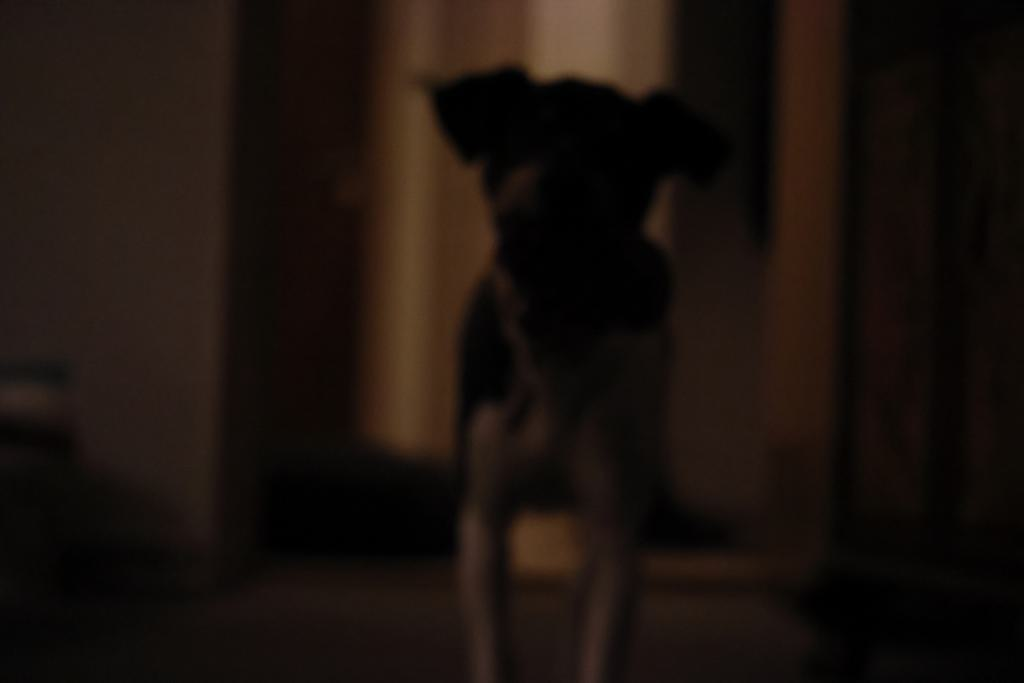Dog: (411, 48, 750, 683)
